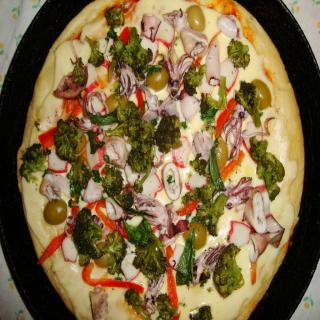Pizza: (14, 0, 304, 319)
